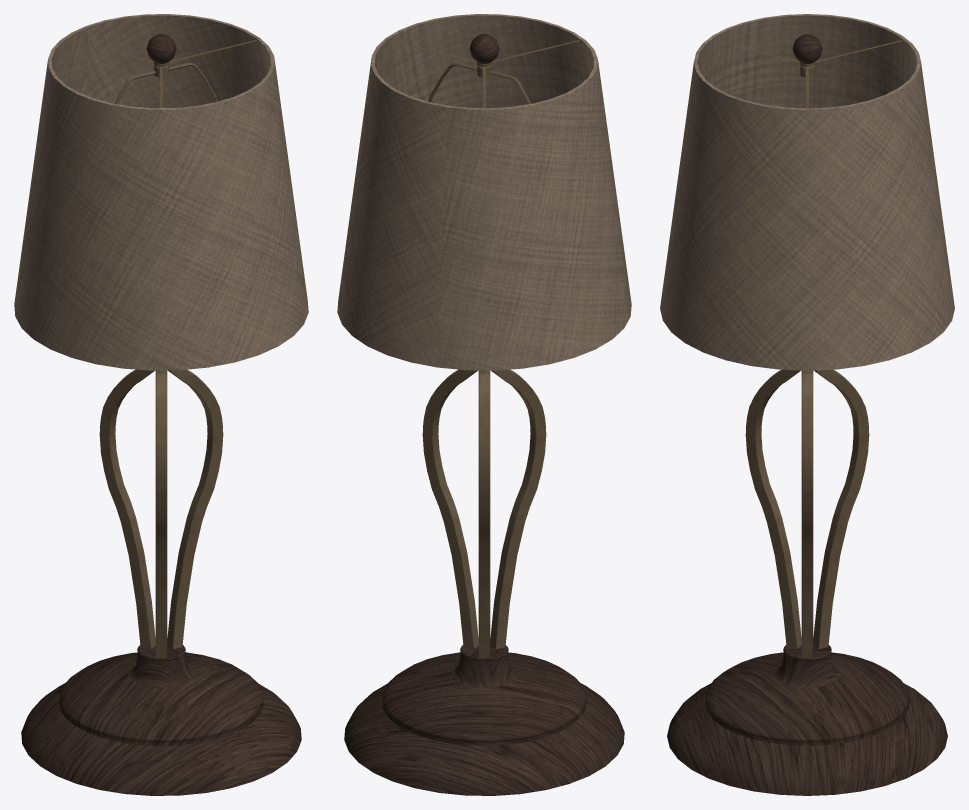
File: table_lamp.glb
3 renders of one model, left to right at view 1: azimuth 30°, elevation 25°; view 2: azimuth 150°, elevation 25°; view 3: azimuth 270°, elevation 25°, orthographic.
Parts seen in each view (by area): view 1: Base; view 2: Base; view 3: Base.
Boxes of the visible parts, bbox=[...] form: Base: bbox=[14, 14, 308, 795]; Base: bbox=[337, 14, 631, 795]; Base: bbox=[660, 14, 954, 795].
Bounding box in the file's own units: 18.11 × 47.53 × 18.11.
Materials: 1 (1 with a texture image).
